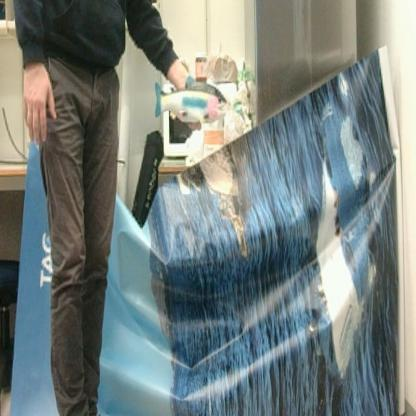rubberfish: (154, 76, 228, 124)
